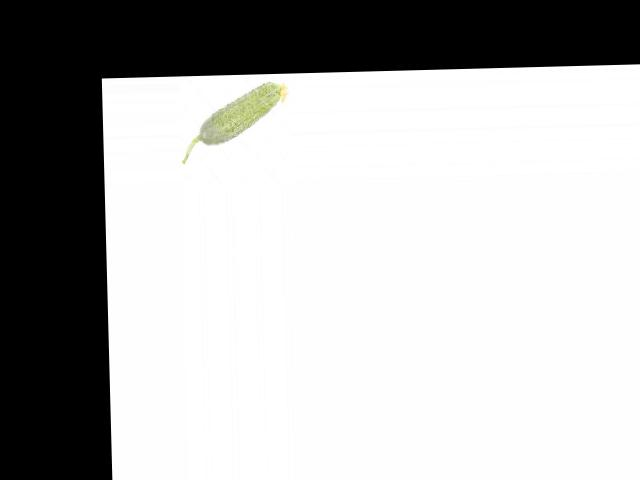cucumber: (180, 80, 291, 163)
